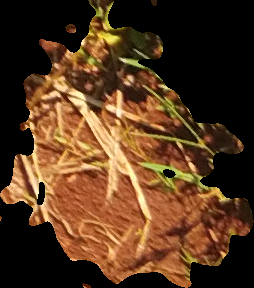soil: (2, 2, 252, 286)
